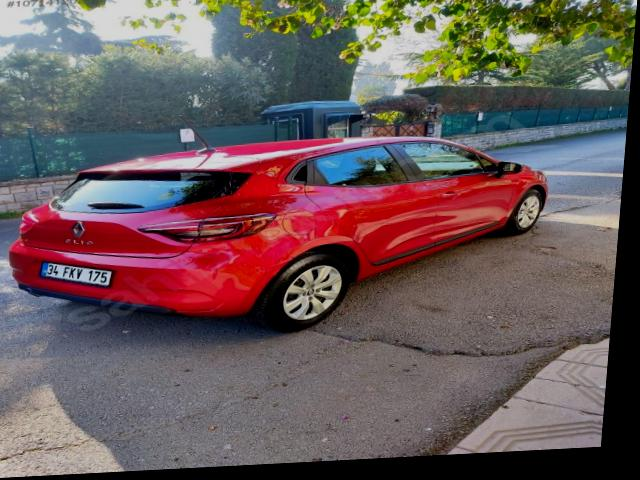plaka: (41, 263, 110, 286)
